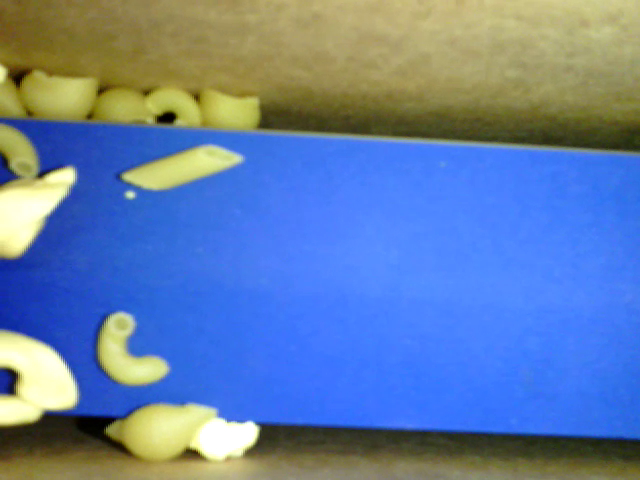elbow: (95, 310, 169, 385), (148, 84, 203, 129), (1, 123, 43, 180)
penne: (121, 143, 245, 190)
shell: (106, 402, 219, 462), (17, 69, 98, 121), (197, 86, 262, 132), (90, 87, 158, 125)
tortellini: (1, 329, 78, 425), (1, 163, 78, 259)
